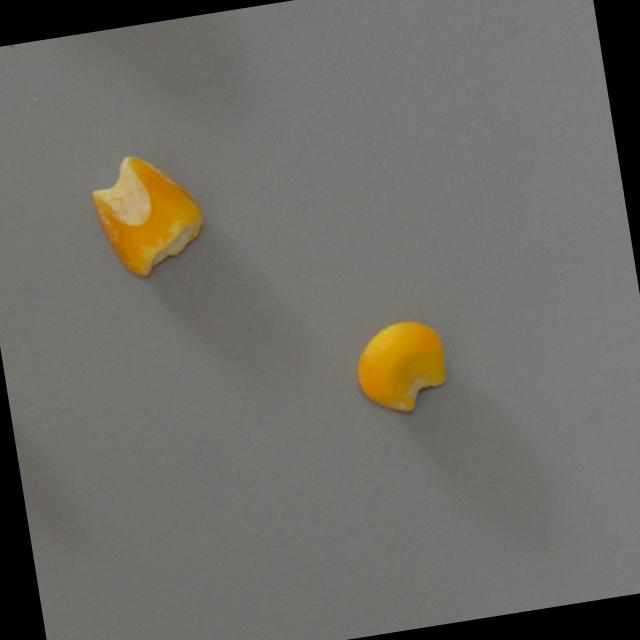no_canjicado: (352, 316, 454, 419)
pelicula: (86, 147, 210, 283)
